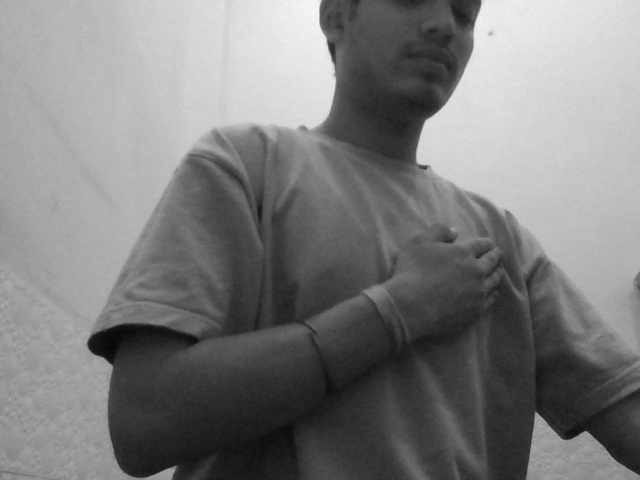Sorry: (343, 186, 547, 372)
